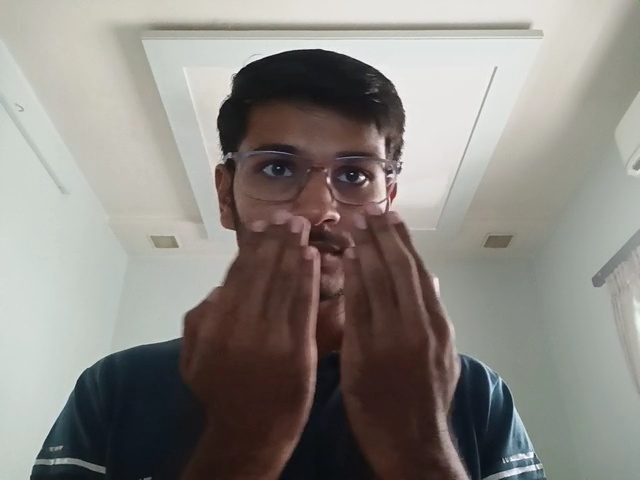Thank You: (174, 208, 481, 443)
